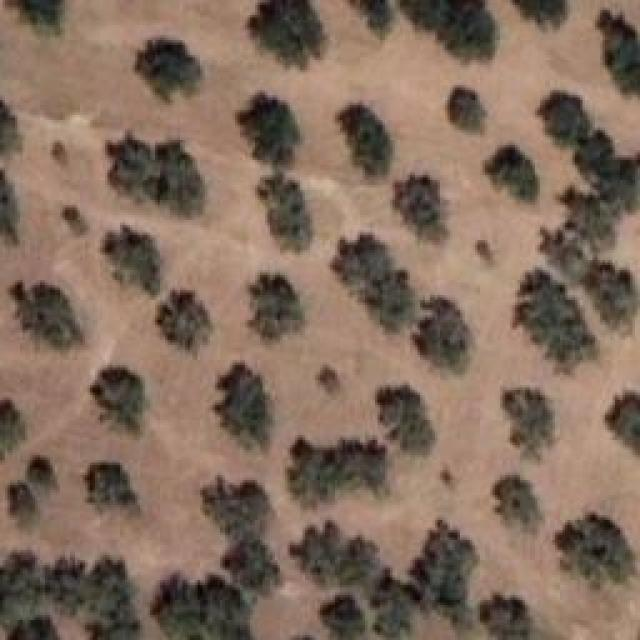Tree: (513, 270, 596, 371), (333, 235, 417, 332), (410, 520, 479, 627), (288, 438, 388, 506), (153, 573, 254, 640), (290, 520, 385, 590), (555, 512, 635, 587), (400, 0, 496, 61), (575, 130, 640, 213), (248, 0, 327, 68), (10, 283, 84, 349), (215, 364, 270, 448), (238, 93, 301, 166), (203, 475, 272, 541), (412, 298, 470, 375), (558, 188, 619, 259), (258, 173, 313, 251), (375, 385, 435, 456), (135, 40, 201, 102), (152, 290, 214, 353), (103, 225, 157, 297), (338, 105, 391, 177), (250, 273, 306, 341), (585, 263, 638, 334), (393, 175, 448, 242), (108, 132, 161, 201), (597, 10, 640, 95), (223, 538, 283, 596), (158, 143, 208, 211), (90, 368, 141, 434), (505, 388, 553, 458), (370, 568, 413, 639), (538, 92, 591, 146), (493, 475, 543, 532), (485, 145, 534, 203), (543, 228, 593, 284), (90, 465, 140, 515), (480, 595, 530, 640), (605, 393, 640, 456), (320, 595, 365, 640), (10, 0, 67, 31), (351, 0, 394, 39), (450, 88, 486, 134), (513, 0, 567, 29), (0, 400, 25, 460), (5, 610, 55, 640), (8, 482, 38, 522), (28, 455, 54, 488)
